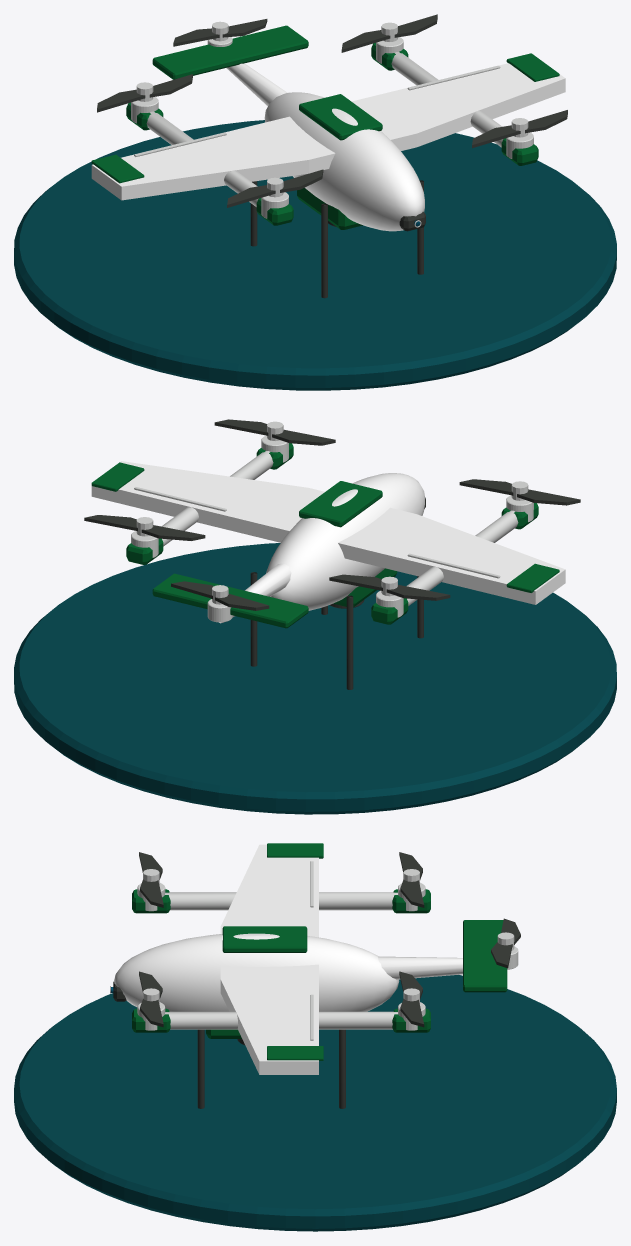
The model's file is zipline-platform-2.glb.
The picture shows the model from 3 angles, top to bottom: view 1: azimuth 30°, elevation 25°; view 2: azimuth 150°, elevation 25°; view 3: azimuth 270°, elevation 25°; orthographic projection.
Visible parts, largest first — view 1: pedestal, body; view 2: pedestal, body; view 3: pedestal, body.
Part boxes in pixels (bbox=[...]): pedestal: bbox=[14, 120, 616, 390]; body: bbox=[91, 14, 567, 298]; pedestal: bbox=[14, 543, 616, 814]; body: bbox=[84, 419, 580, 689]; pedestal: bbox=[14, 975, 616, 1231]; body: bbox=[110, 843, 520, 1108].
Bounding box in the file's own units: 4.4 × 1.4 × 4.4.
